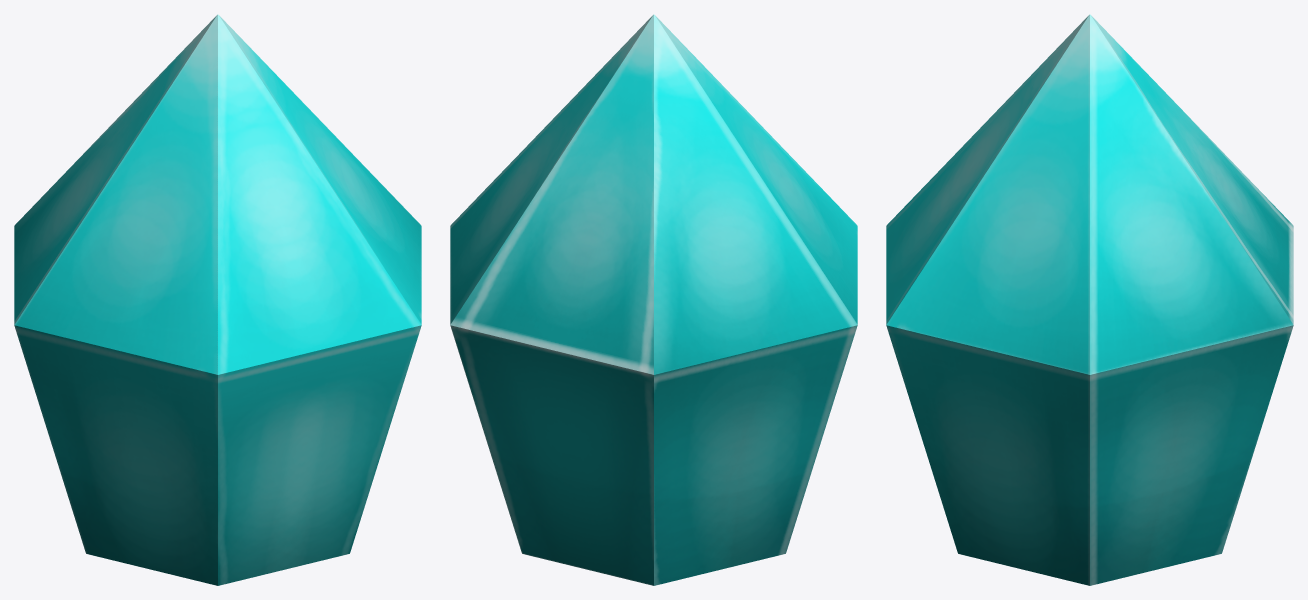
Rendered from crystalA.fbx.
3 renders of one model, left to right at view 1: azimuth 30°, elevation 25°; view 2: azimuth 150°, elevation 25°; view 3: azimuth 270°, elevation 25°, orthographic.
Parts seen in each view (by area): view 1: crystalA; view 2: crystalA; view 3: crystalA.
Part boxes in pixels (x1,y1,x2,y2): crystalA: [14, 14, 421, 585]; crystalA: [450, 14, 857, 585]; crystalA: [886, 14, 1293, 585].
Bounding box in the file's own units: 1.33 × 1.59 × 1.16.
